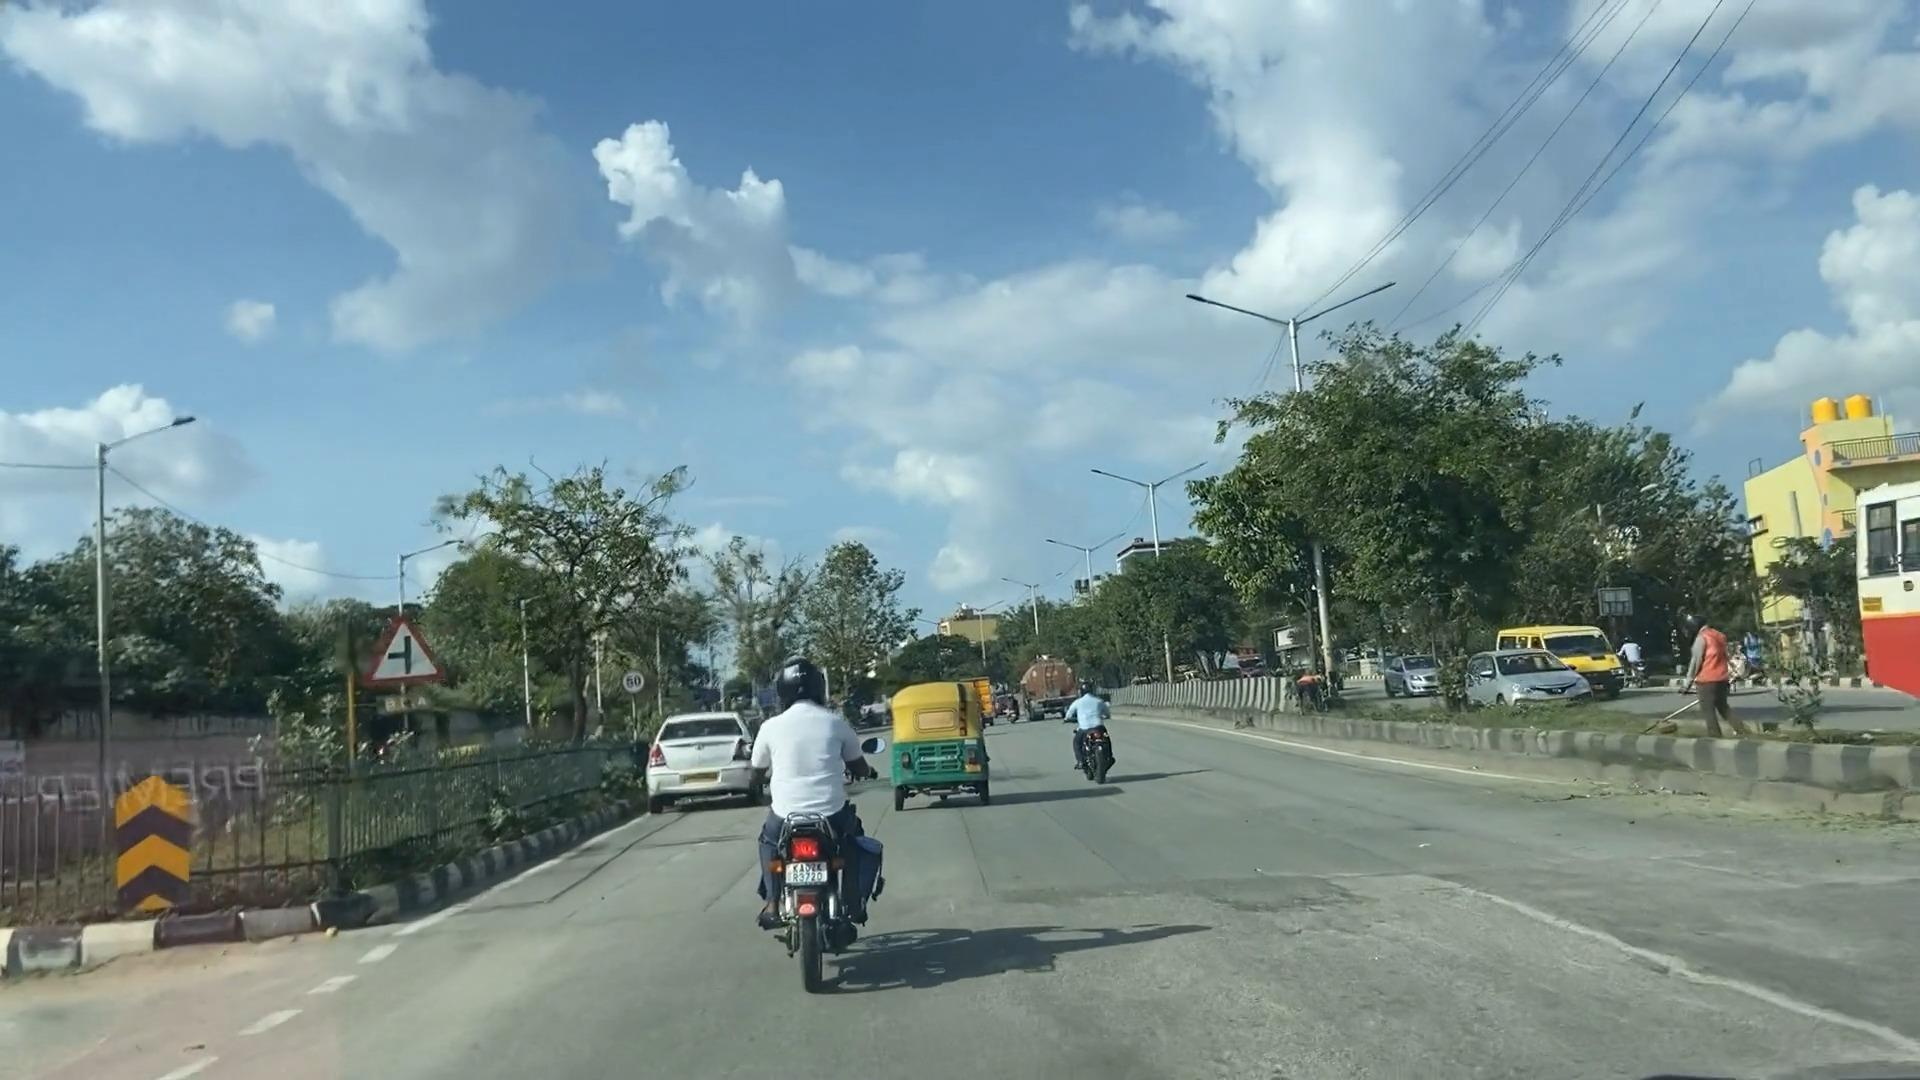RoadDamages: (1400, 868, 1920, 1080)
